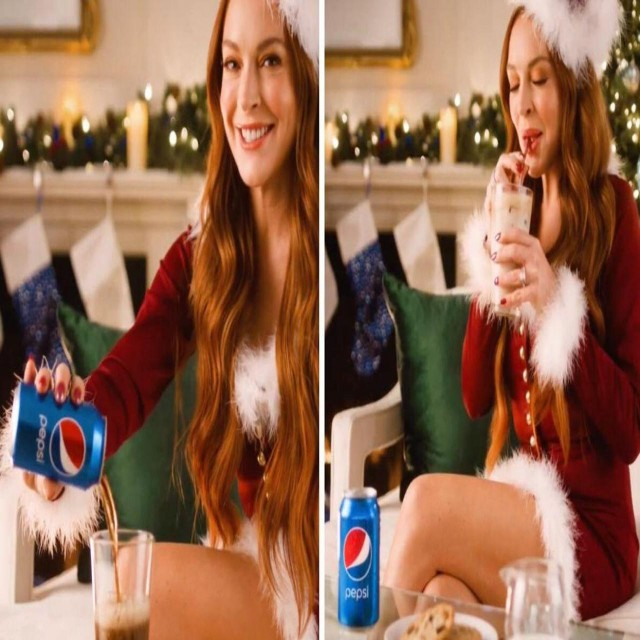pepsi: (49, 417, 85, 480), (342, 521, 374, 583)
